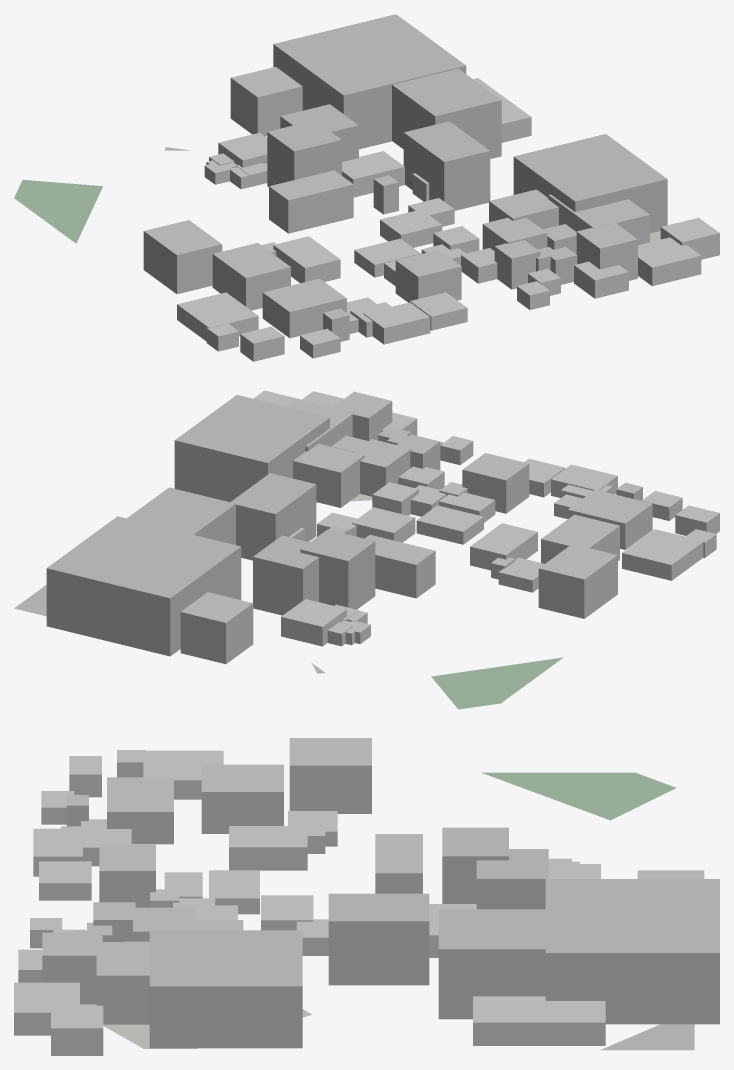
The model's file is 111_94_mid.glb.
3 renders of one model, top to bottom at view 1: azimuth 30°, elevation 25°; view 2: azimuth 150°, elevation 25°; view 3: azimuth 270°, elevation 25°, orthographic. The views are drawn at different scales.
Size of the model in its own units: 518 by 60.49 by 538.
